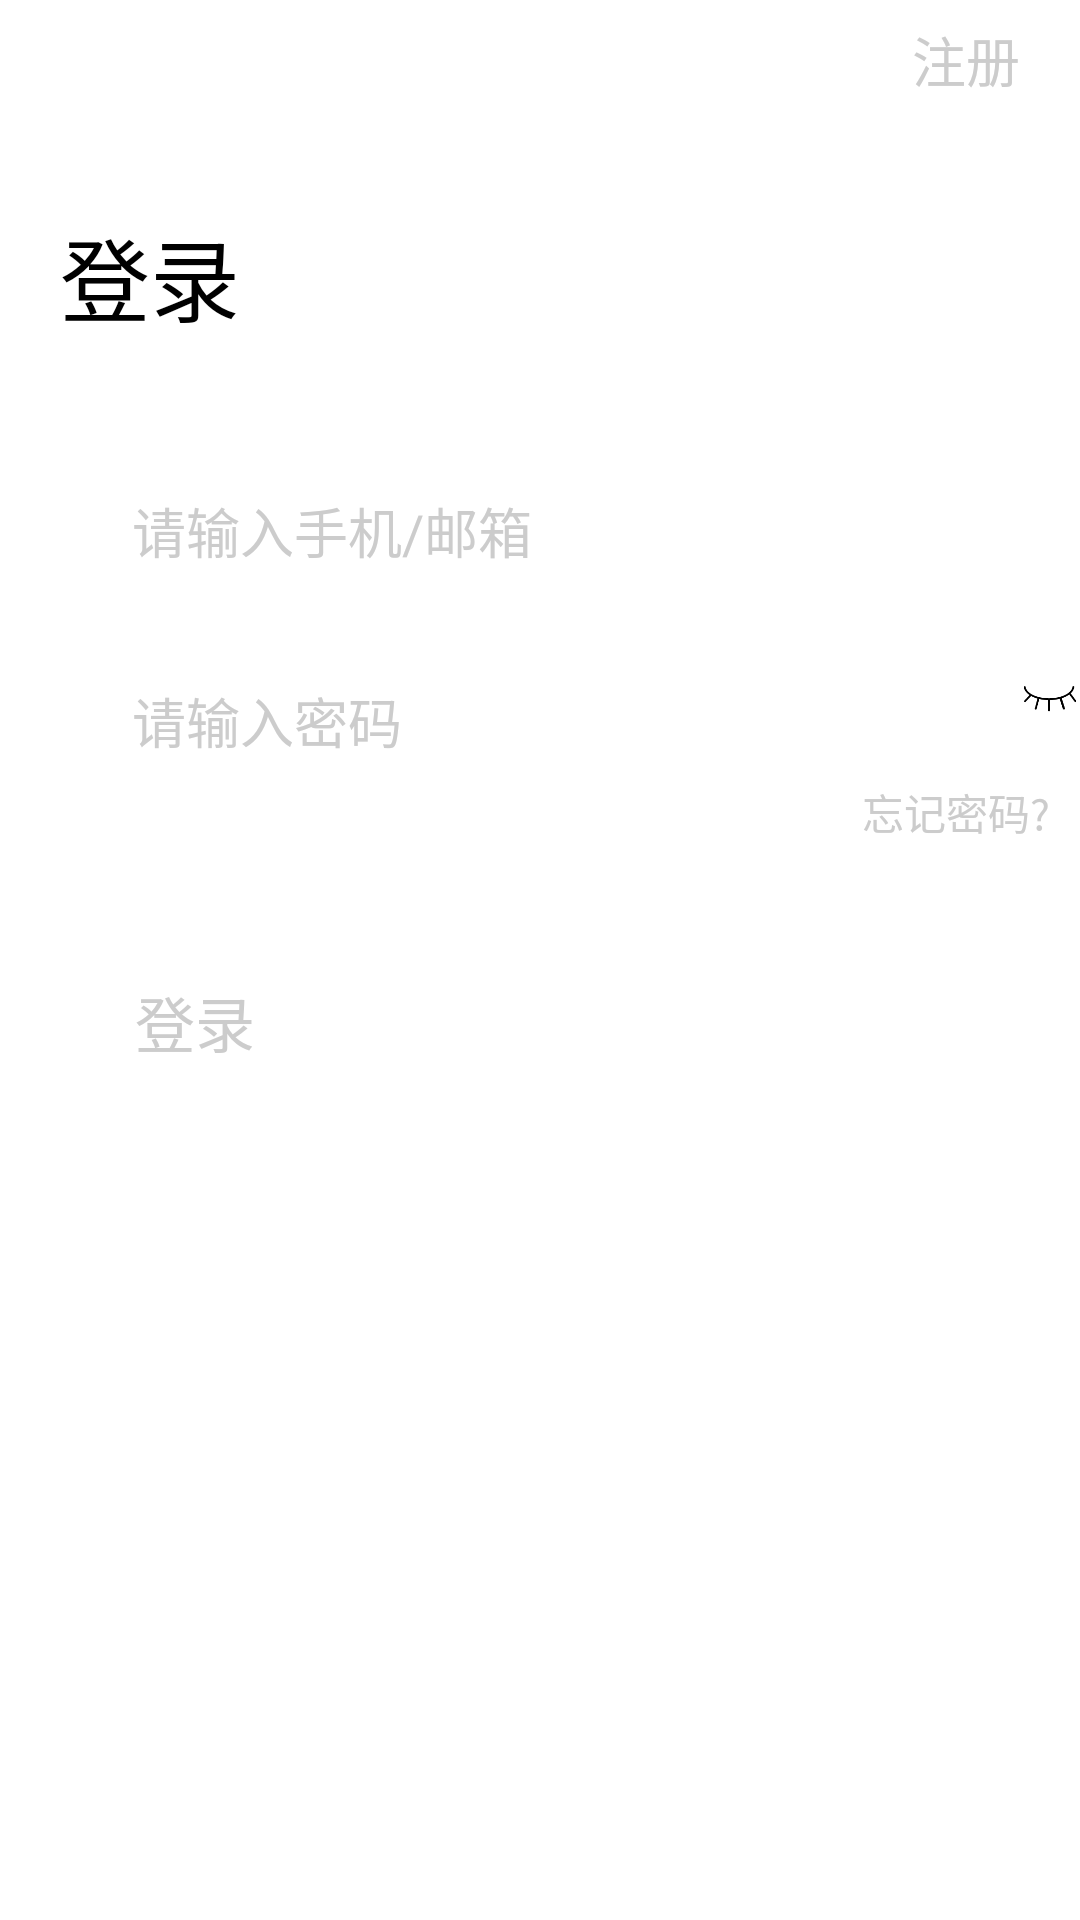

Icons on this 1080px×1920px Android screen, each with its box as {"left": x1, "top": y1, "right": x2, "bottom": y2}:
passwordnosee: {"left": 1024, "top": 686, "right": 1076, "bottom": 712}
